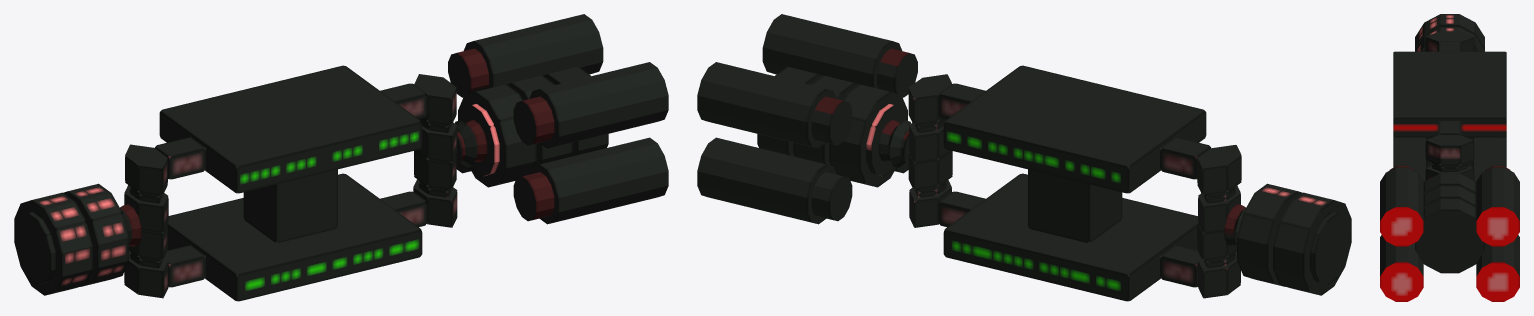
Rendered from spaceship.fbx.
3 views of the same model, side by side, from view 1: azimuth 30°, elevation 25°; view 2: azimuth 150°, elevation 25°; view 3: azimuth 270°, elevation 25° (orthographic). The views are drawn at different scales.
Parts seen in each view (by area): view 1: mesh_1, mesh, cylinder_18, cylinder_15, cylinder_17, cylinder_2, cylinder_4, cylinder, cylinder_11, cylinder_8, cylinder_13, cylinder_12 (+8 smaller); view 2: mesh_1, mesh, cylinder_17, cylinder_16, cylinder_18, cylinder_2, cylinder_4, cylinder, cylinder_11, cylinder_8, cylinder_13, cylinder_10 (+8 smaller); view 3: mesh_1, cylinder_6, cylinder_17, cylinder_18, cylinder_15, cylinder_16, mesh, cylinder_8, cylinder_2, cylinder_5, cylinder_11, cylinder_4 (+2 smaller).
Boxes of the visible parts, bbox=[...] form: mesh_1: bbox=[155, 65, 427, 242]; mesh: bbox=[164, 173, 427, 301]; cylinder_18: bbox=[513, 62, 668, 148]; cylinder_15: bbox=[513, 137, 668, 224]; cylinder_17: bbox=[448, 14, 603, 97]; cylinder_2: bbox=[14, 192, 92, 295]; cylinder_4: bbox=[458, 84, 536, 187]; cylinder: bbox=[54, 183, 128, 286]; cylinder_11: bbox=[125, 144, 167, 198]; cylinder_8: bbox=[414, 74, 456, 127]; cylinder_13: bbox=[124, 250, 168, 298]; cylinder_12: bbox=[124, 185, 168, 233]; mesh_1: bbox=[938, 65, 1210, 242]; mesh: bbox=[938, 173, 1200, 301]; cylinder_17: bbox=[697, 62, 852, 148]; cylinder_16: bbox=[697, 137, 852, 224]; cylinder_18: bbox=[762, 14, 917, 97]; cylinder_2: bbox=[1273, 192, 1351, 295]; cylinder_4: bbox=[829, 84, 907, 187]; cylinder: bbox=[1237, 183, 1302, 286]; cylinder_11: bbox=[1197, 145, 1241, 197]; cylinder_8: bbox=[908, 74, 951, 127]; cylinder_13: bbox=[1198, 250, 1240, 298]; cylinder_10: bbox=[908, 150, 952, 192]; mesh_1: bbox=[1393, 41, 1506, 168]; cylinder_6: bbox=[1415, 198, 1484, 273]; cylinder_17: bbox=[1476, 165, 1519, 246]; cylinder_18: bbox=[1380, 165, 1423, 246]; cylinder_15: bbox=[1380, 235, 1423, 301]; cylinder_16: bbox=[1476, 235, 1519, 301]; mesh: bbox=[1393, 137, 1506, 181]; cylinder_8: bbox=[1425, 135, 1474, 168]; cylinder_2: bbox=[1415, 14, 1484, 49]; cylinder_5: bbox=[1423, 185, 1476, 207]; cylinder_11: bbox=[1425, 31, 1474, 51]; cylinder_4: bbox=[1423, 173, 1476, 194].
Size of the model in its own units: 712 by 156 by 200.
Materials: 1 (1 with a texture image).
